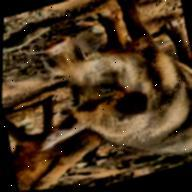boar: (36, 0, 192, 190)
